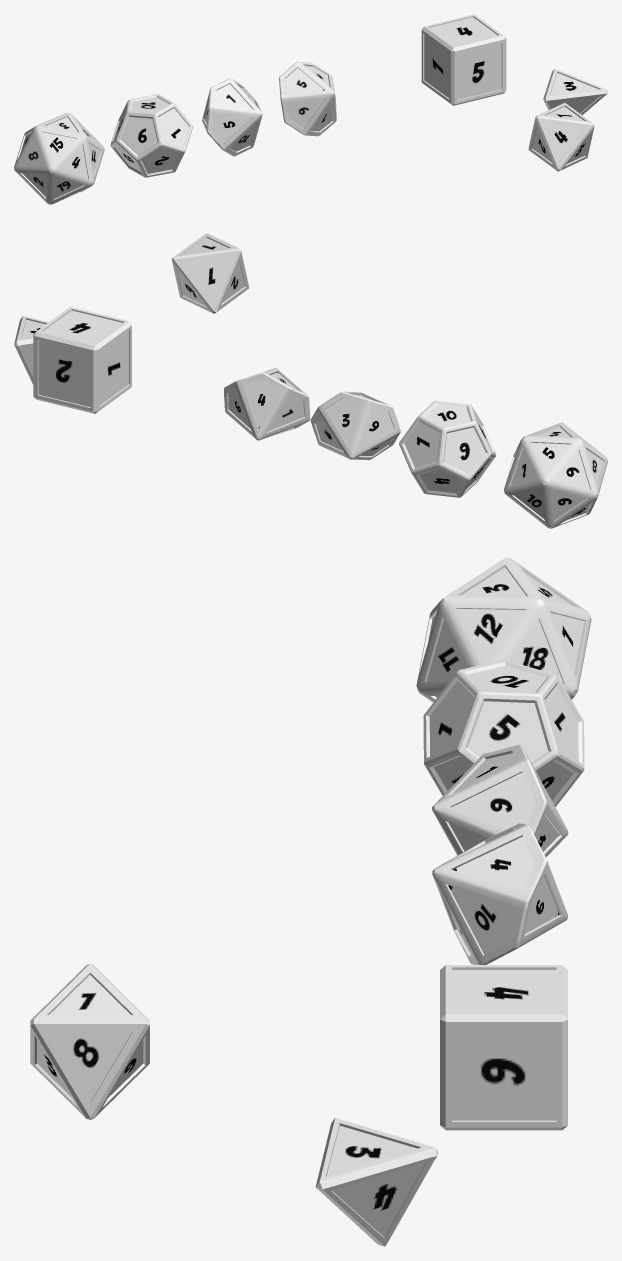
The model's file is dice2.fbx.
3 renders of one model, top to bottom at view 1: azimuth 30°, elevation 25°; view 2: azimuth 150°, elevation 25°; view 3: azimuth 270°, elevation 25°, orthographic. The views are drawn at different scales.
Parts seen in each view (by area): view 1: dice_six, dice_twenty, dice_sixteen, dice_ten, dice_twelve, dice_eight, dice_four; view 2: dice_six, dice_twenty, dice_sixteen, dice_twelve, dice_ten, dice_eight, dice_four; view 3: dice_six, dice_sixteen, dice_twenty, dice_eight, dice_ten, dice_four, dice_twelve.
Part boxes in pixels (x1,y1,x2,y2): dice_six: [421, 14, 506, 105]; dice_twenty: [14, 112, 104, 204]; dice_sixteen: [110, 94, 193, 177]; dice_ten: [279, 61, 336, 136]; dice_twelve: [202, 78, 262, 156]; dice_eight: [528, 103, 594, 171]; dice_four: [543, 69, 607, 115]; dice_six: [33, 306, 131, 413]; dice_twenty: [504, 422, 607, 528]; dice_sixteen: [399, 400, 496, 497]; dice_twelve: [310, 391, 400, 460]; dice_ten: [224, 368, 310, 440]; dice_eight: [172, 233, 248, 313]; dice_four: [14, 316, 48, 384]; dice_six: [440, 965, 567, 1130]; dice_sixteen: [423, 659, 584, 806]; dice_twenty: [416, 557, 591, 702]; dice_eight: [30, 964, 149, 1119]; dice_ten: [432, 823, 567, 964]; dice_four: [315, 1117, 438, 1246]; dice_twelve: [432, 745, 568, 856].
Bounding box in the file's own units: 34.17 × 6.21 × 15.27.
